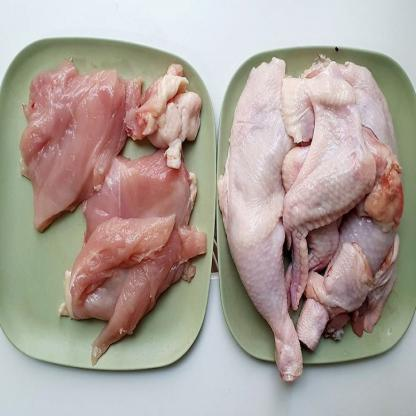chicken: (213, 27, 303, 383), (274, 63, 374, 296), (63, 207, 206, 356), (14, 50, 124, 232), (70, 143, 207, 235), (124, 60, 208, 172), (308, 244, 368, 318)
